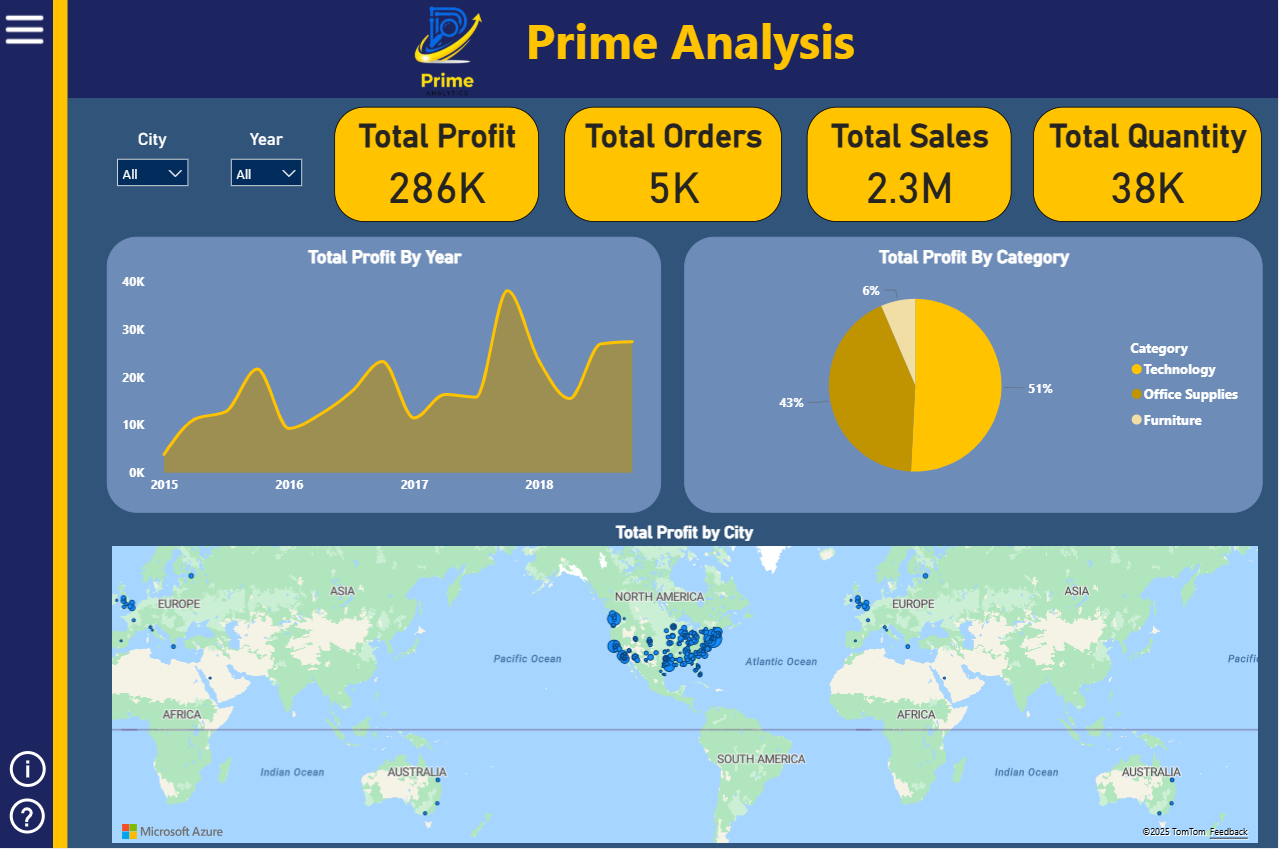

The dashboard page shown, as its layout file describes it:
{"tool":"powerbi","page":{"name":"Profit","canvas":[1280,850],"ordinal":2},"visuals":[{"type":"shape","box":[0,0,56.5,850],"z":6000},{"type":"shape","box":[70,0,1210,100],"z":7000},{"type":"shape","box":[55.5,0,14.5,850],"z":8000},{"type":"textbox","box":[522.5,3.8,462.5,91.2],"z":9000},{"type":"actionButton","title":"Help","box":[6,794.5,47.5,46],"z":11000},{"type":"actionButton","title":"Info","box":[6,747.5,47.5,47],"z":12000},{"type":"card","title":"Total Quantity","fields":{"Values":["DaxMeasure.Total_Quantity"]},"box":[1035,108.8,228.8,115],"z":14000},{"type":"card","title":"Total Sales","fields":{"Values":["DaxMeasure.Total_Sales"]},"box":[808.8,108.8,205,115],"z":15000},{"type":"card","title":"Total Orders","fields":{"Values":["DaxMeasure.Total_Orders"]},"box":[566.2,108.8,217.5,115],"z":16000},{"type":"card","title":"Total Profit","fields":{"Values":["DaxMeasure.Total_Profit"]},"box":[336.2,108.8,205,115],"z":17000},{"type":"slicer","title":"City","fields":{"Values":["CustomerDim.City"]},"box":[108.8,131.2,91.2,70],"z":18000},{"type":"slicer","title":"Year","fields":{"Values":["DateDim.Order Date.Variation.Date Hierarchy.Year"]},"box":[222.5,131.2,91.2,70],"z":19000},{"type":"image","box":[393.3,0,112.2,103.3],"z":20000},{"type":"lineChart","title":"Total Profit By Year","fields":{"Y":["DaxMeasure.Total_Profit"],"Category":["DateDim.Order Date.Variation.Date Hierarchy.Year","DateDim.Order Date.Variation.Date Hierarchy.Quarter","DateDim.Order Date.Variation.Date Hierarchy.Month","DateDim.Order Date.Variation.Date Hierarchy.Day"]},"box":[108.6,238.6,554.3,275.7],"z":21000},{"type":"pieChart","title":"Total Profit By Category","fields":{"Y":["DaxMeasure.Total_Profit"],"Category":["ProductDim.Category"]},"box":[685.7,238.6,578.6,275.7],"z":22000},{"type":"azureMap","title":"Total Profit by City","fields":{"Size":["DaxMeasure.Total_Profit"],"Category":["CustomerDim.City"]},"box":[108.6,524.3,1155.7,325.7],"z":23000},{"type":"actionButton","title":"Menu","box":[4.3,8.6,51.4,45.7],"z":23250}]}

Visuals, with their boxes in screenshot pixels (x1, y1, x2, y2), scaled from the page's 1280x850 canvas onto the 1279x849 screenshot:
shape: 0:0:56:848
shape: 70:0:1278:100
shape: 55:0:70:848
textbox: 522:4:984:95
"Help" actionButton: 6:794:53:840
"Info" actionButton: 6:747:53:794
"Total Quantity" card: 1034:109:1263:224
"Total Sales" card: 808:109:1013:224
"Total Orders" card: 566:109:783:224
"Total Profit" card: 336:109:541:224
"City" slicer: 109:131:200:201
"Year" slicer: 222:131:313:201
image: 393:0:505:103
"Total Profit By Year" lineChart: 109:238:662:514
"Total Profit By Category" pieChart: 685:238:1263:514
"Total Profit by City" azureMap: 109:524:1263:848
"Menu" actionButton: 4:9:56:54
